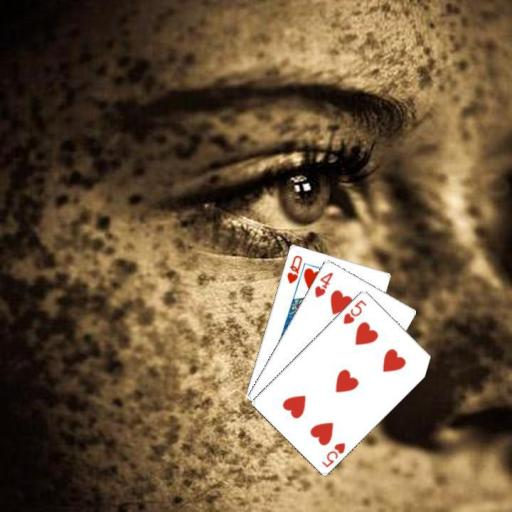4H: (312, 269, 335, 299)
5H: (319, 439, 347, 469), (340, 296, 368, 325)
QH: (284, 252, 304, 285)
